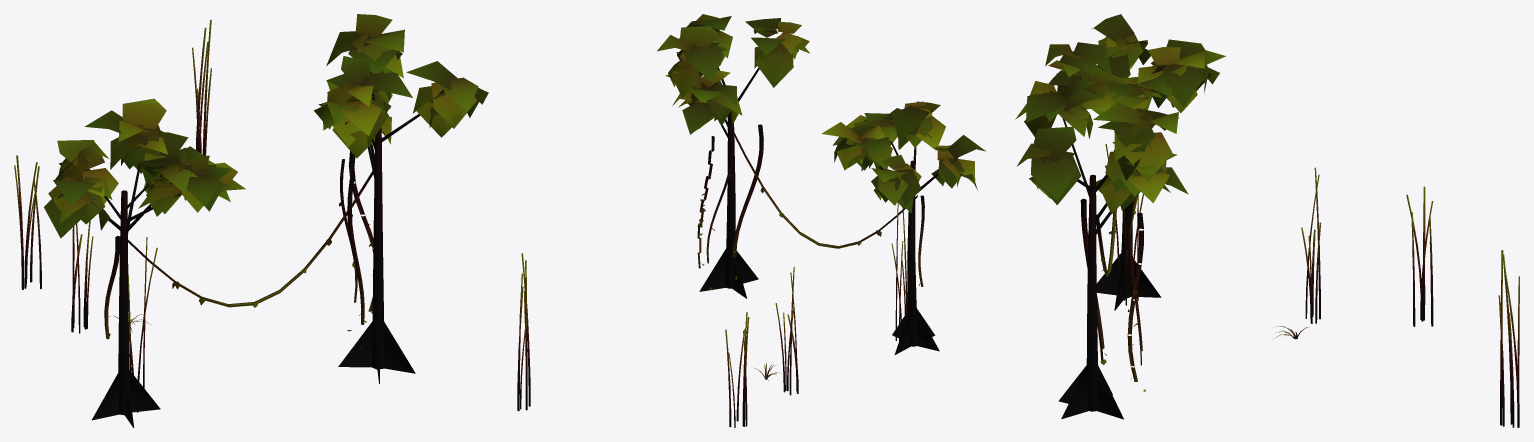
The model's file is patch_secondary_far.glb.
3 renders of one model, left to right at view 1: azimuth 30°, elevation 25°; view 2: azimuth 150°, elevation 25°; view 3: azimuth 270°, elevation 25°, orthographic. The views are drawn at different scales.
Parts seen in each view (by area): view 1: patch_secondary_far; view 2: patch_secondary_far; view 3: patch_secondary_far.
Boxes of the visible parts, left/top/right/bottom form: patch_secondary_far: left=14, top=14, right=488, bottom=427; patch_secondary_far: left=517, top=14, right=985, bottom=427; patch_secondary_far: left=1015, top=14, right=1519, bottom=427.
Size of the model in its own units: 13.83 by 10.53 by 15.51.
1 material, 1 textured.
